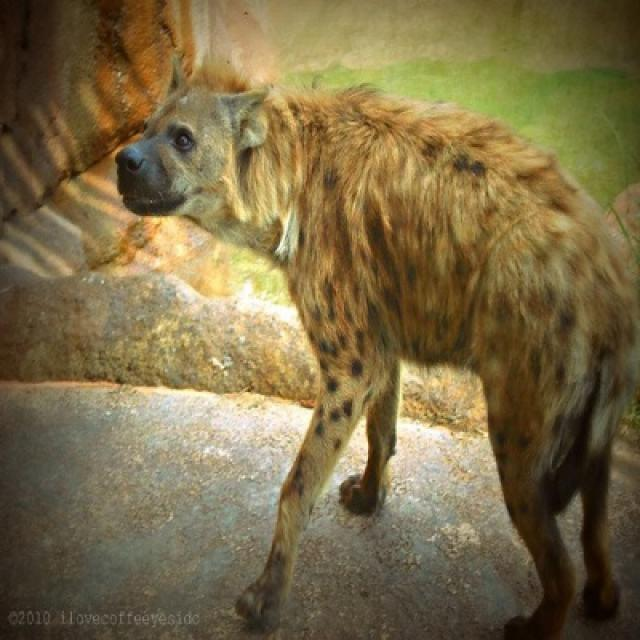hyena: (114, 86, 638, 638)
